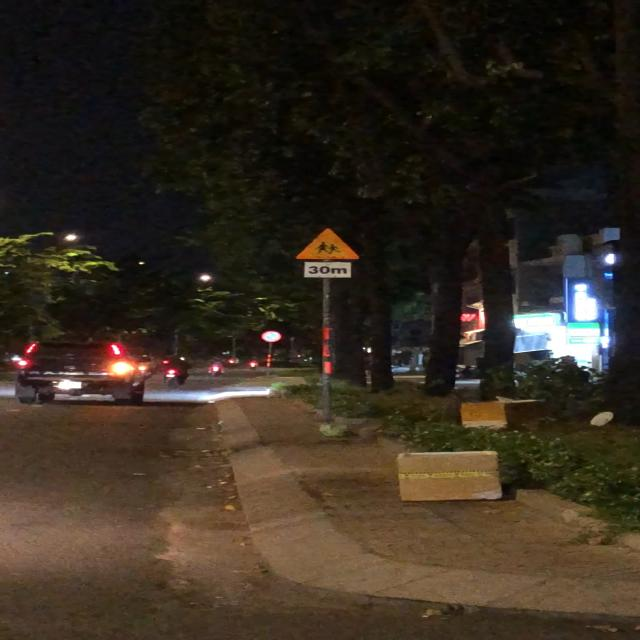Bien bao tre em: (296, 226, 360, 262)
